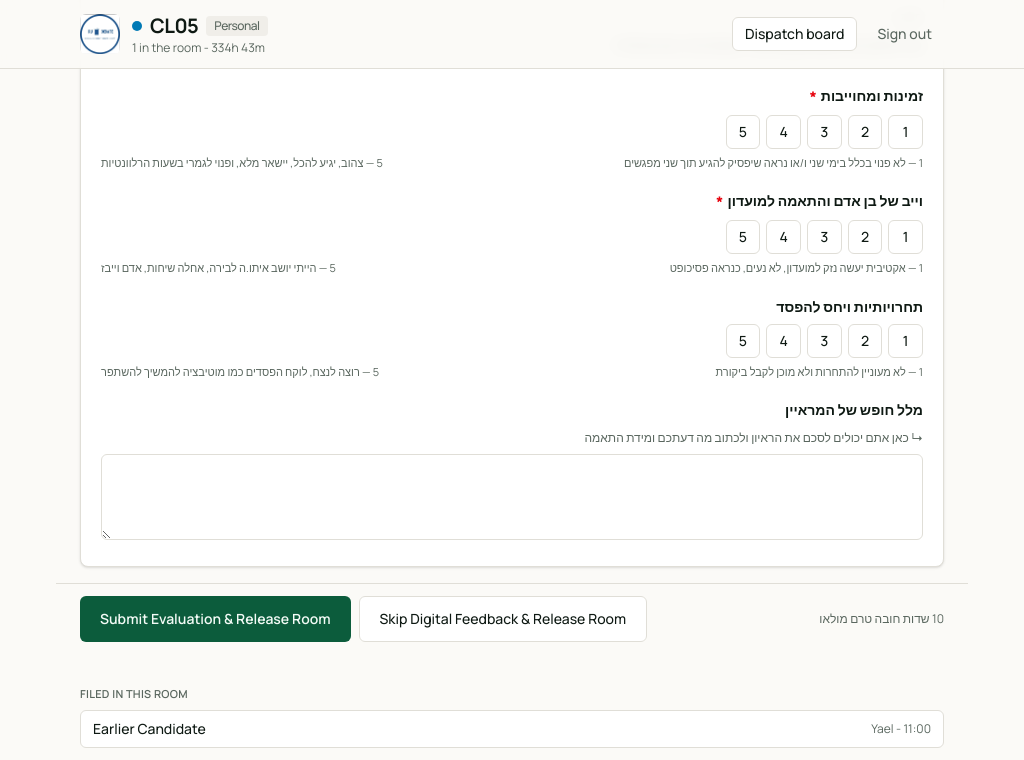
Test: RoomView — what was already filed › expands one to read the answers without leaving the room
The image size is (1024, 760).
(page scrolled)
Check: the heading "Filed in this room" is shown, box [80,686,188,701]
Click the button "Earlier Candidate Yael - 11:00" at coordinates (149, 729), box [81,711,943,747]
(page scrolled)
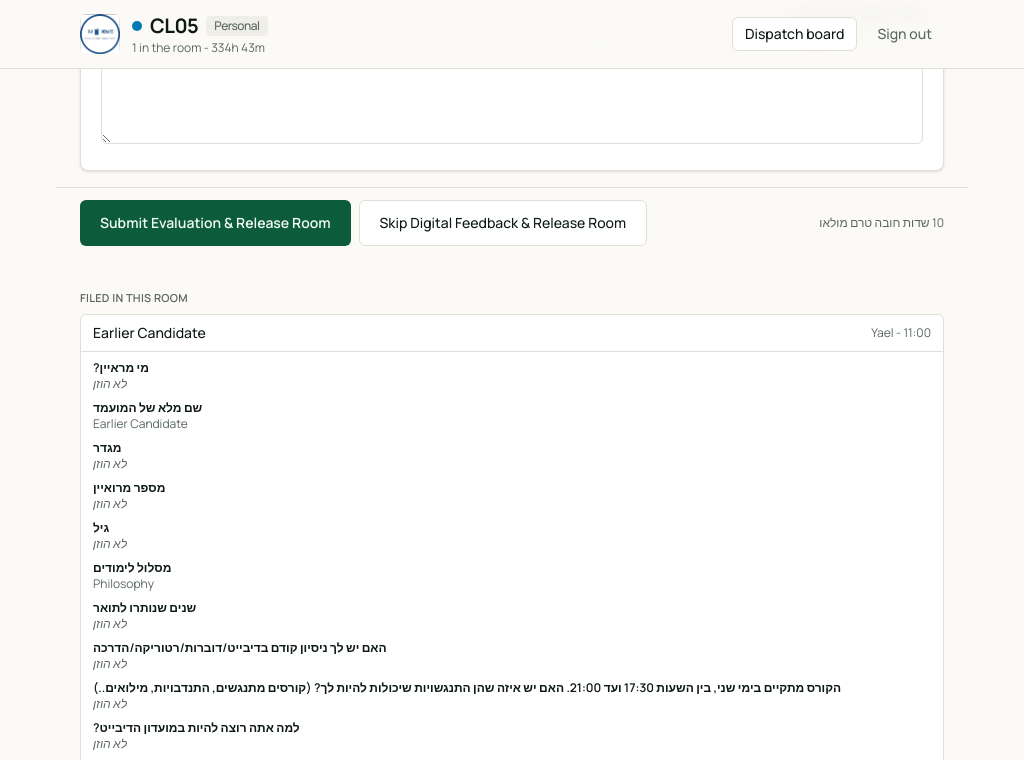
Check: the text "Philosophy" is shown, box [93,575,154,592]
Check: the 1st text "לא הוזן" is shown, box [93,375,127,392]
